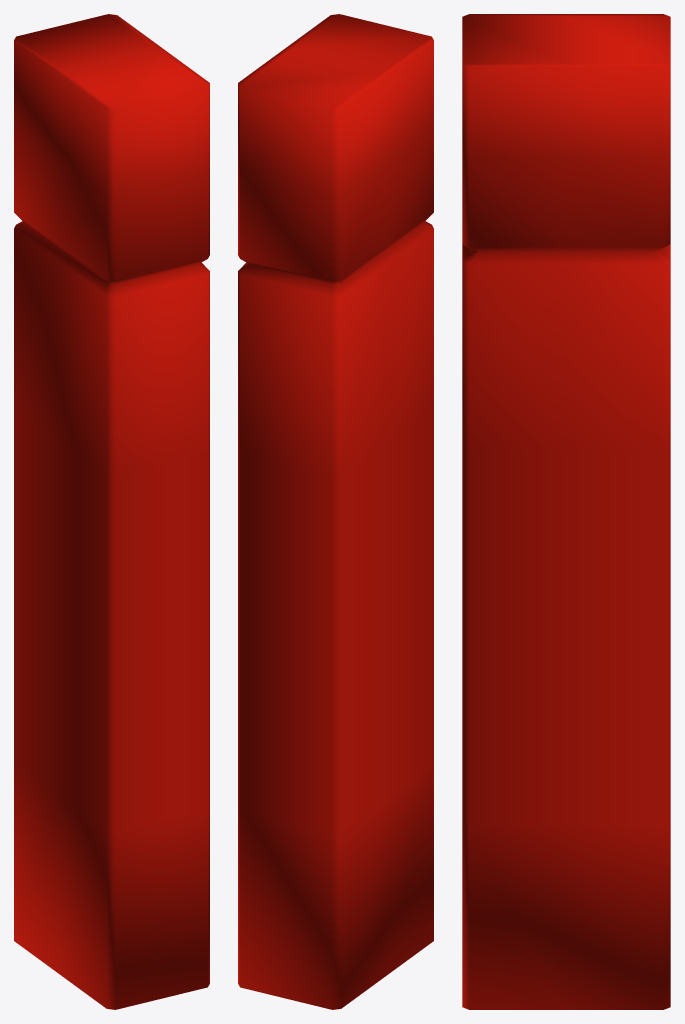
The model's file is IndBuilding1_Deco_Column_Mid.fbx.
3 renders of one model, left to right at view 1: azimuth 30°, elevation 25°; view 2: azimuth 150°, elevation 25°; view 3: azimuth 270°, elevation 25°, orthographic. The views are drawn at different scales.
Visible parts, largest first — view 1: IndBuilding1_Deco_Column_Mid; view 2: IndBuilding1_Deco_Column_Mid; view 3: IndBuilding1_Deco_Column_Mid.
Part boxes in pixels (left/top/right/bottom): IndBuilding1_Deco_Column_Mid: left=14, top=14, right=209, bottom=1009; IndBuilding1_Deco_Column_Mid: left=238, top=14, right=433, bottom=1009; IndBuilding1_Deco_Column_Mid: left=462, top=14, right=670, bottom=1009.
Bounding box in the file's own units: 0.6 × 5 × 1.
